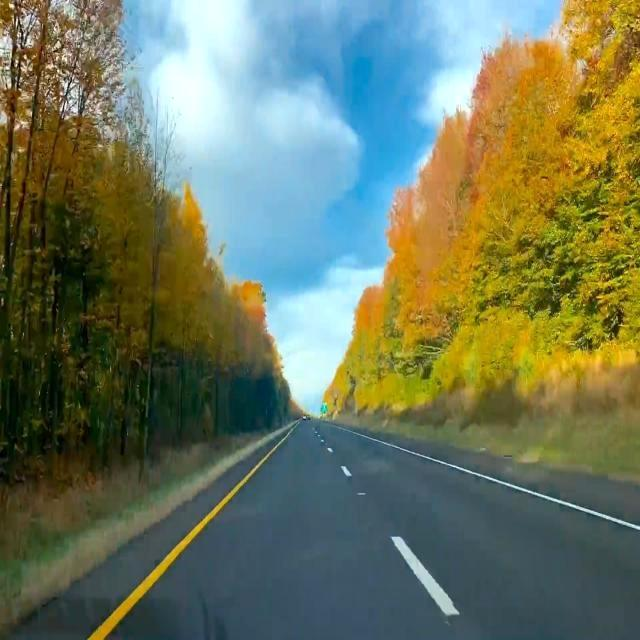lane: (87, 436, 287, 639), (334, 426, 640, 531), (392, 536, 459, 616), (340, 465, 351, 477)
road: (108, 420, 639, 639)
